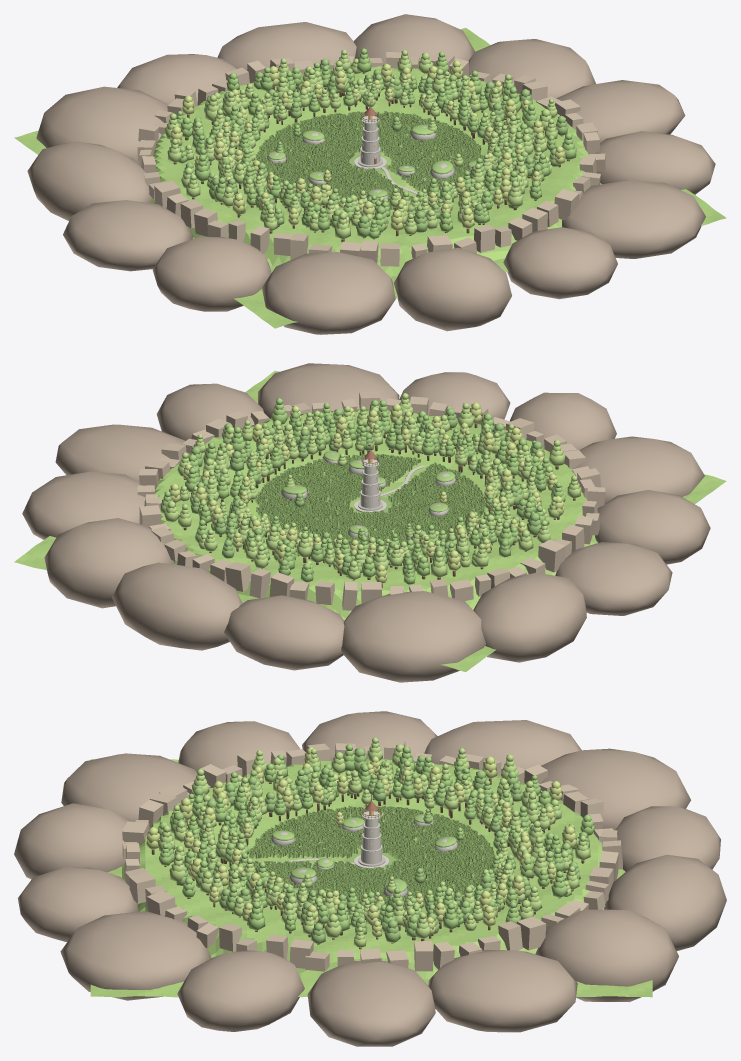
Rendered from Map1.fbx.
3 views of the same model, one above another, from view 1: azimuth 30°, elevation 25°; view 2: azimuth 150°, elevation 25°; view 3: azimuth 270°, elevation 25° (orthographic). The views are drawn at different scales.
Parts seen in each view (by area): view 1: RT_Ground_Field, RT_GrassFull, RT_Hill_09, RT_Hill_12, RT_Hill_10, RT_Hill_08, RT_Hill_07, RT_Hill_06, RT_Hill_11, RT_Hill_05, RT_Hill_13, RT_Hill_00 (+6 smaller); view 2: RT_Ground_Field, RT_GrassFull, RT_Hill_05, RT_Hill_03, RT_Hill_06, RT_Hill_02, RT_Hill_04, RT_Hill_07, RT_Hill_08, RT_Hill_01, RT_Hill_09, RT_Hill_00 (+6 smaller); view 3: RT_Ground_Field, RT_GrassFull, RT_Hill_01, RT_Hill_12, RT_Hill_00, RT_Hill_02, RT_Hill_13, RT_Hill_03, RT_Hill_05, RT_Hill_10, RT_Hill_11, RT_Hill_09 (+8 smaller).
Boxes of the visible parts, box(x1,y1,x2,y2) form: RT_Ground_Field: box(14, 28, 726, 328); RT_GrassFull: box(256, 111, 483, 209); RT_Hill_09: box(262, 252, 395, 334); RT_Hill_12: box(562, 180, 705, 258); RT_Hill_10: box(393, 247, 511, 331); RT_Hill_08: box(152, 236, 271, 311); RT_Hill_07: box(63, 200, 193, 271); RT_Hill_06: box(27, 141, 152, 220); RT_Hill_11: box(503, 227, 617, 299); RT_Hill_05: box(36, 86, 168, 165); RT_Hill_13: box(594, 131, 715, 194); RT_Hill_00: box(556, 80, 685, 142); RT_Ground_Field: box(14, 370, 726, 671); RT_GrassFull: box(255, 454, 485, 547); RT_Hill_05: box(341, 591, 485, 682); RT_Hill_03: box(111, 562, 242, 650); RT_Hill_06: box(473, 572, 586, 662); RT_Hill_02: box(44, 518, 174, 608); RT_Hill_04: box(224, 595, 344, 670); RT_Hill_07: box(555, 542, 672, 615); RT_Hill_08: box(595, 490, 710, 564); RT_Hill_01: box(22, 471, 144, 539); RT_Hill_09: box(573, 436, 704, 503); RT_Hill_00: box(55, 424, 188, 481); RT_Ground_Field: box(90, 758, 652, 997); RT_GrassFull: box(249, 805, 494, 912); RT_Hill_01: box(428, 950, 577, 1032); RT_Hill_12: box(60, 911, 211, 1000); RT_Hill_00: box(307, 961, 435, 1046); RT_Hill_02: box(535, 909, 678, 1002); RT_Hill_13: box(177, 950, 304, 1031); RT_Hill_03: box(604, 854, 726, 950); RT_Hill_05: box(540, 748, 690, 830); RT_Hill_10: box(14, 803, 130, 879); RT_Hill_11: box(17, 867, 138, 941); RT_Hill_09: box(61, 753, 197, 821).
Bounding box in the file's own units: 18750 × 3319 × 17769.
